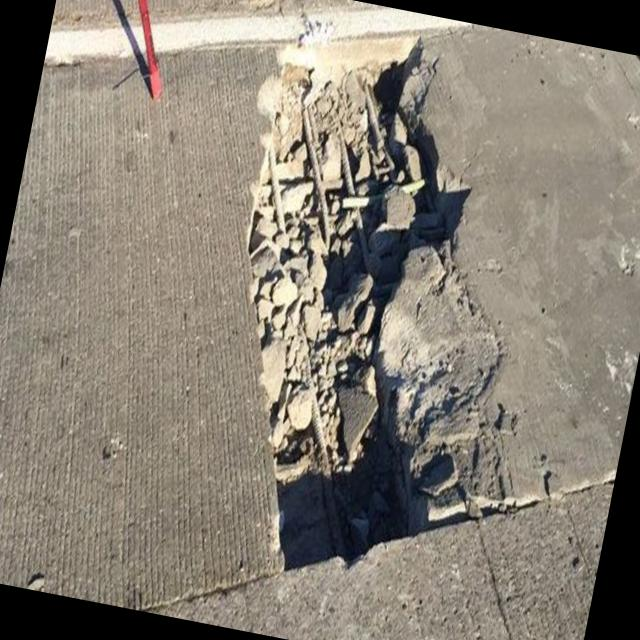Potholes: (133, 0, 609, 599)
